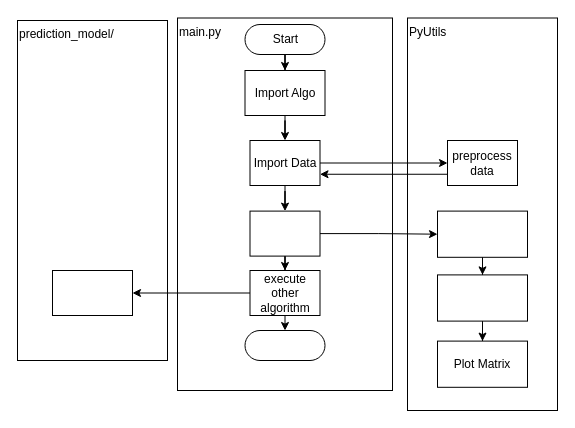
Some shapes in this 575 by 428 pixel diagram are drawn without their labels. Here are the shapes that lost their labels. From the top down, the centre of each, then its label:
the point at 284,233: execute each Algo on data
the point at 482,233: perform Algo
the point at 92,293: RNA.py
the point at 482,297: calculate scores
the point at 284,345: End
